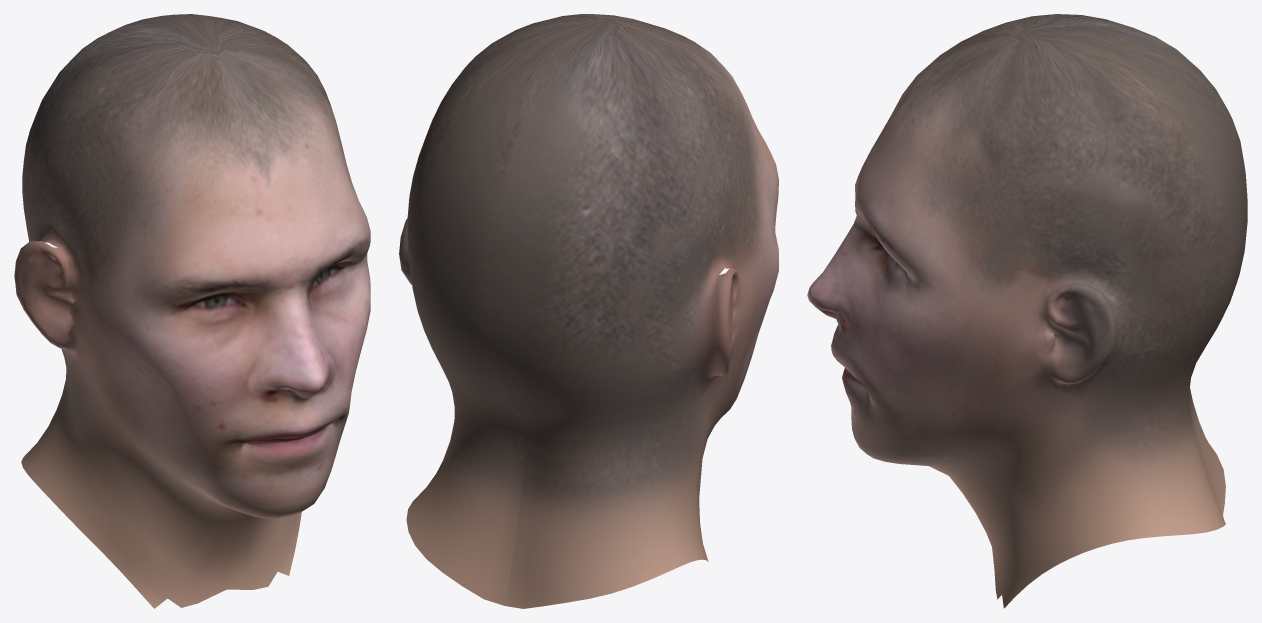
The model's file is CBA.glb.
3 renders of one model, left to right at view 1: azimuth 30°, elevation 25°; view 2: azimuth 150°, elevation 25°; view 3: azimuth 270°, elevation 25°, orthographic. The views are drawn at different scales.
Parts seen in each view (by area): view 1: HombreMesh_Group1; view 2: HombreMesh_Group1; view 3: HombreMesh_Group1.
Part boxes in pixels (<box>): HombreMesh_Group1: <box>14,14,370,608</box>; HombreMesh_Group1: <box>399,14,778,608</box>; HombreMesh_Group1: <box>807,14,1247,608</box>.
Size of the model in its own units: 0.0525 by 0.0879 by 0.0642.
1 material, 1 textured.
